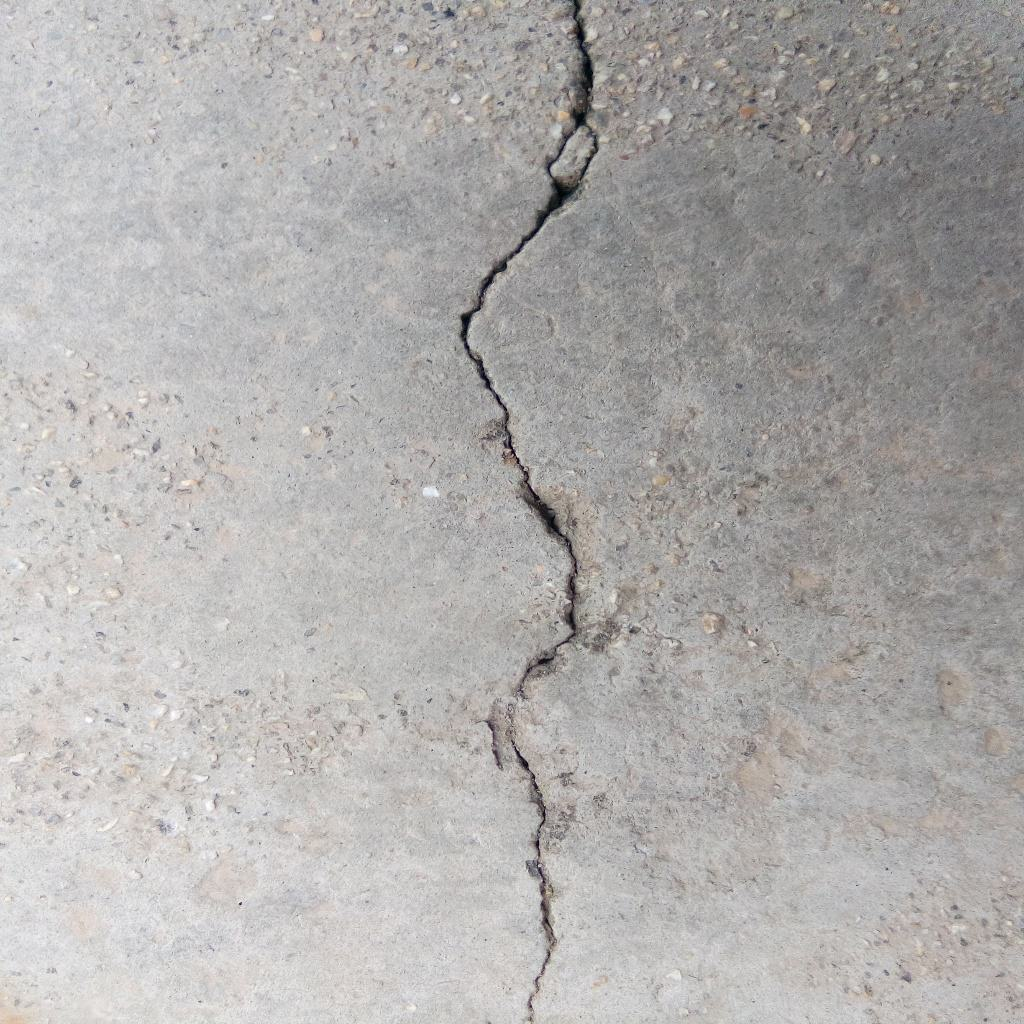Crack: (458, 1, 600, 1024)
